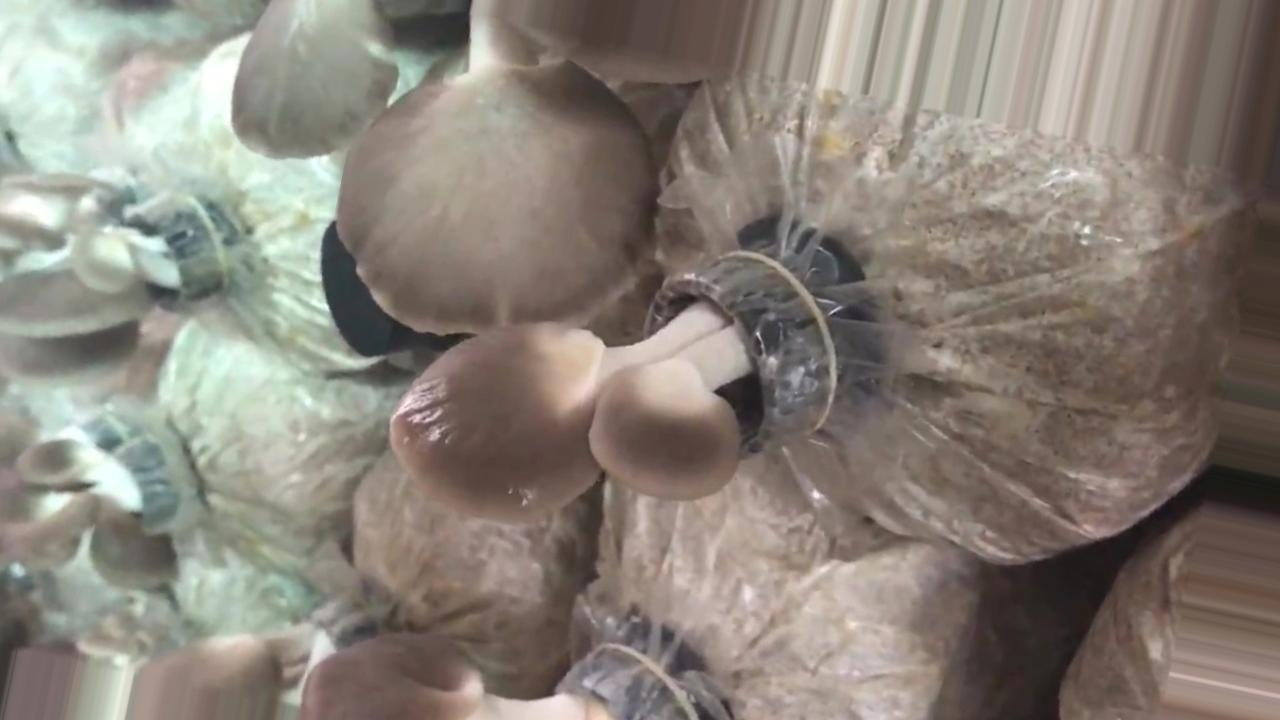nam: (229, 1, 750, 346), (380, 230, 843, 531), (296, 606, 738, 720), (1, 168, 232, 386), (127, 577, 413, 720), (1, 424, 209, 595)
